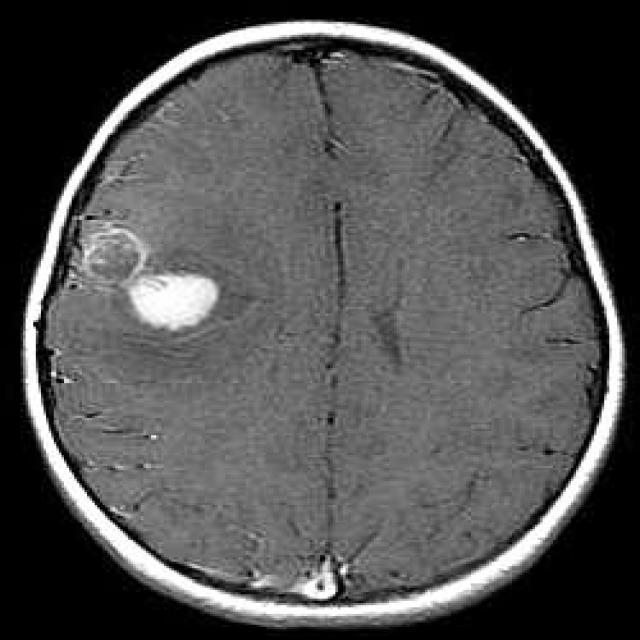Tumor: (118, 271, 230, 333), (68, 229, 153, 282)
